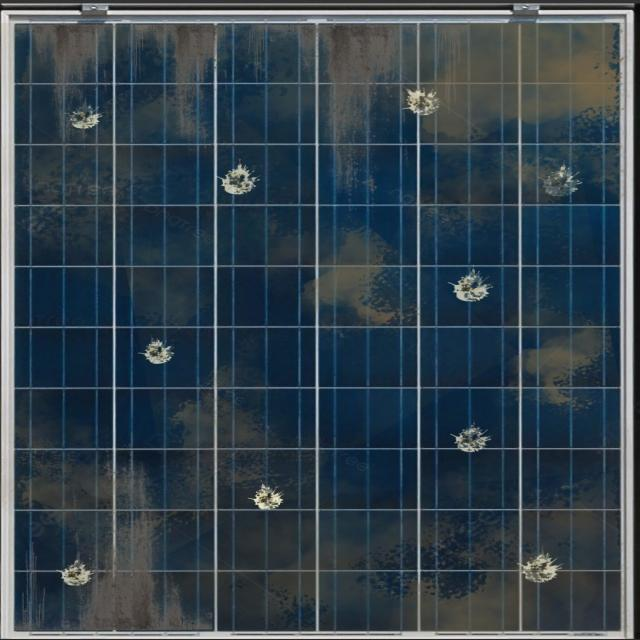faulty: (2, 12, 628, 640)
